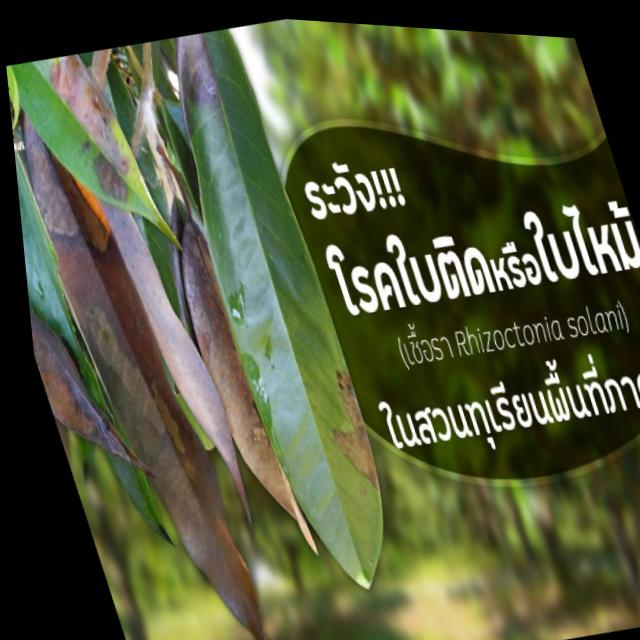Leaf Blight: (5, 67, 287, 640), (244, 256, 402, 541), (15, 193, 153, 517), (105, 155, 265, 415), (19, 92, 135, 319), (137, 24, 250, 161)
